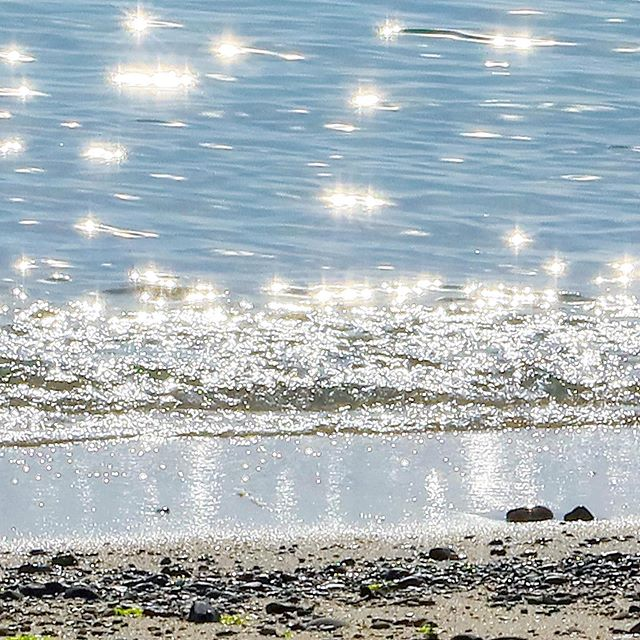sea: (1, 1, 640, 420)
